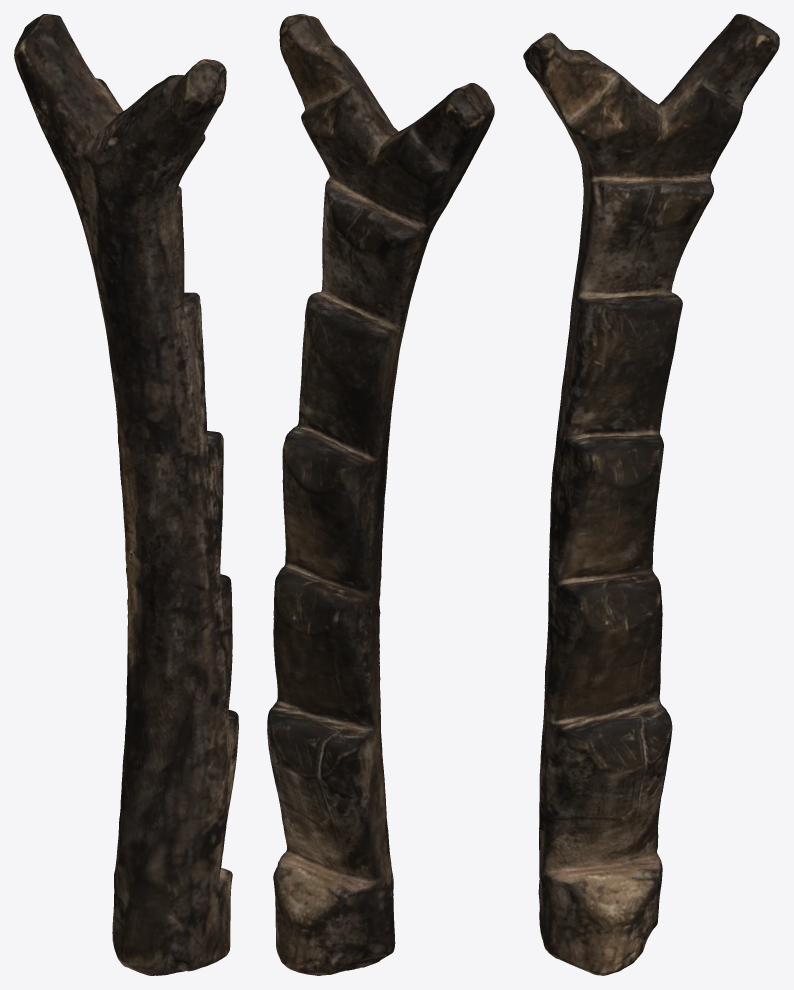
The model's file is preview.glb.
3 renders of one model, left to right at view 1: azimuth 30°, elevation 25°; view 2: azimuth 210°, elevation 25°; view 3: azimuth 270°, elevation 25°, orthographic.
Parts seen in each view (by area): view 1: Object_2; view 2: Object_2; view 3: Object_2.
Boxes of the visible parts, left/top/right/bottom form: Object_2: left=14, top=14, right=238, bottom=975; Object_2: left=267, top=14, right=494, bottom=975; Object_2: left=523, top=14, right=779, bottom=975.
Bounding box in the file's own units: 246 × 1522 × 379.
Materials: 1 (1 with a texture image).
